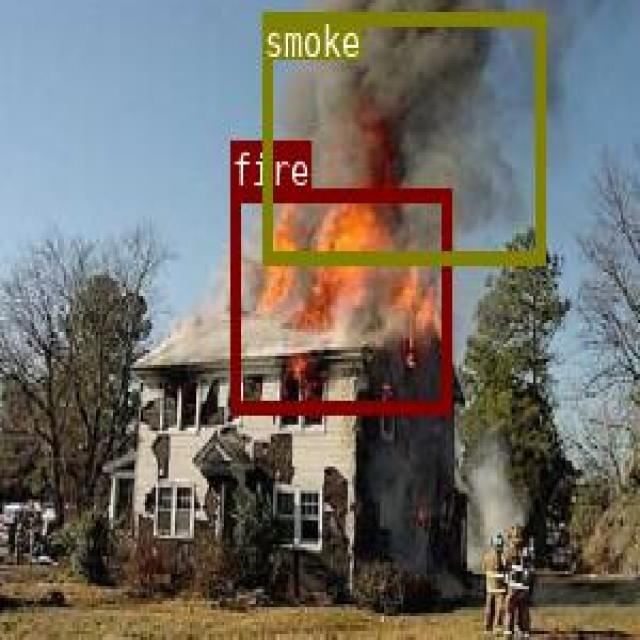fire: (229, 188, 449, 411)
smoke: (261, 9, 543, 260)
